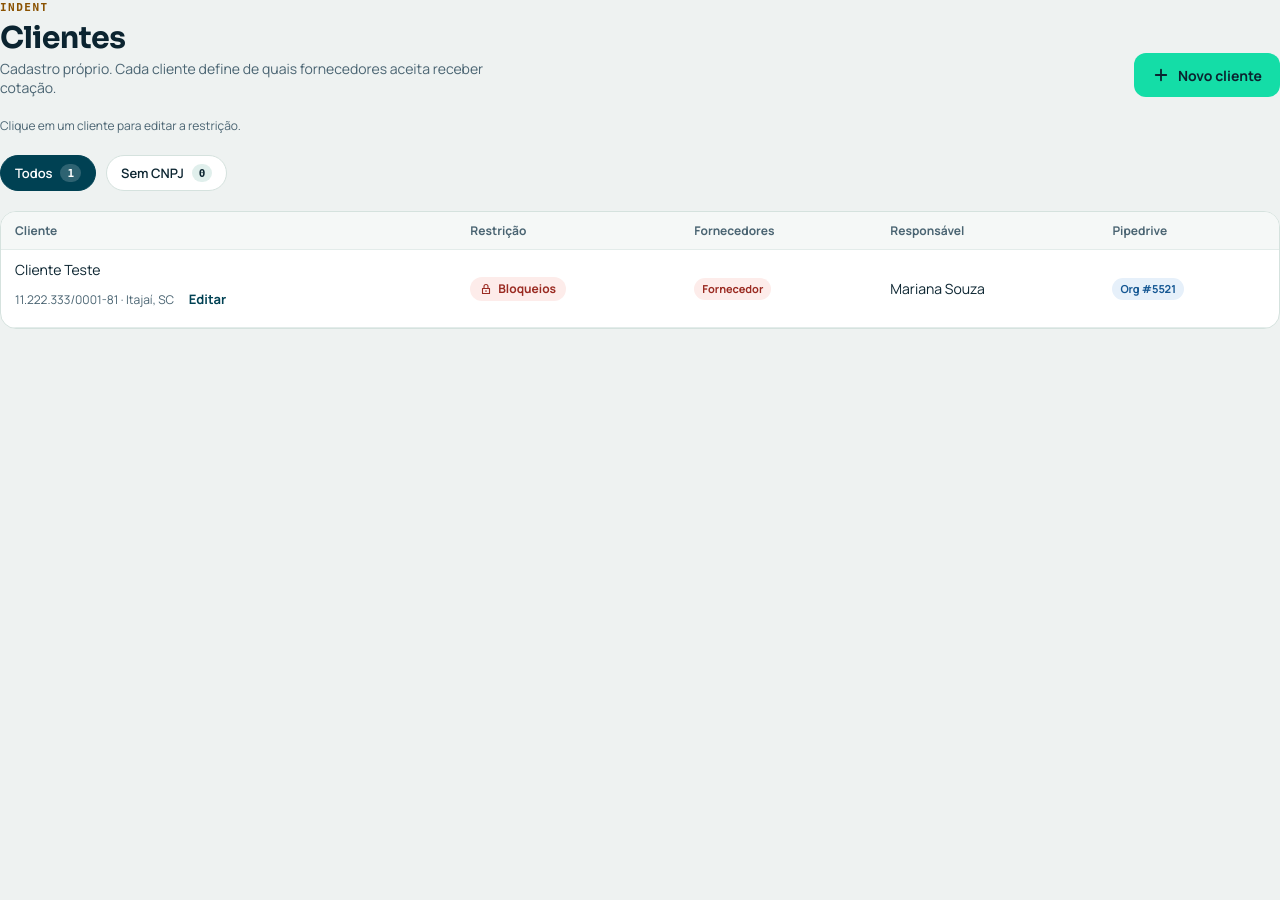
IndentClientes › fornecedor INATIVO ja marcado na regra continua na lista (marcado) mesmo fora dos options
Click the text "Cliente Teste" at (640, 288), box [1,250,1279,328]
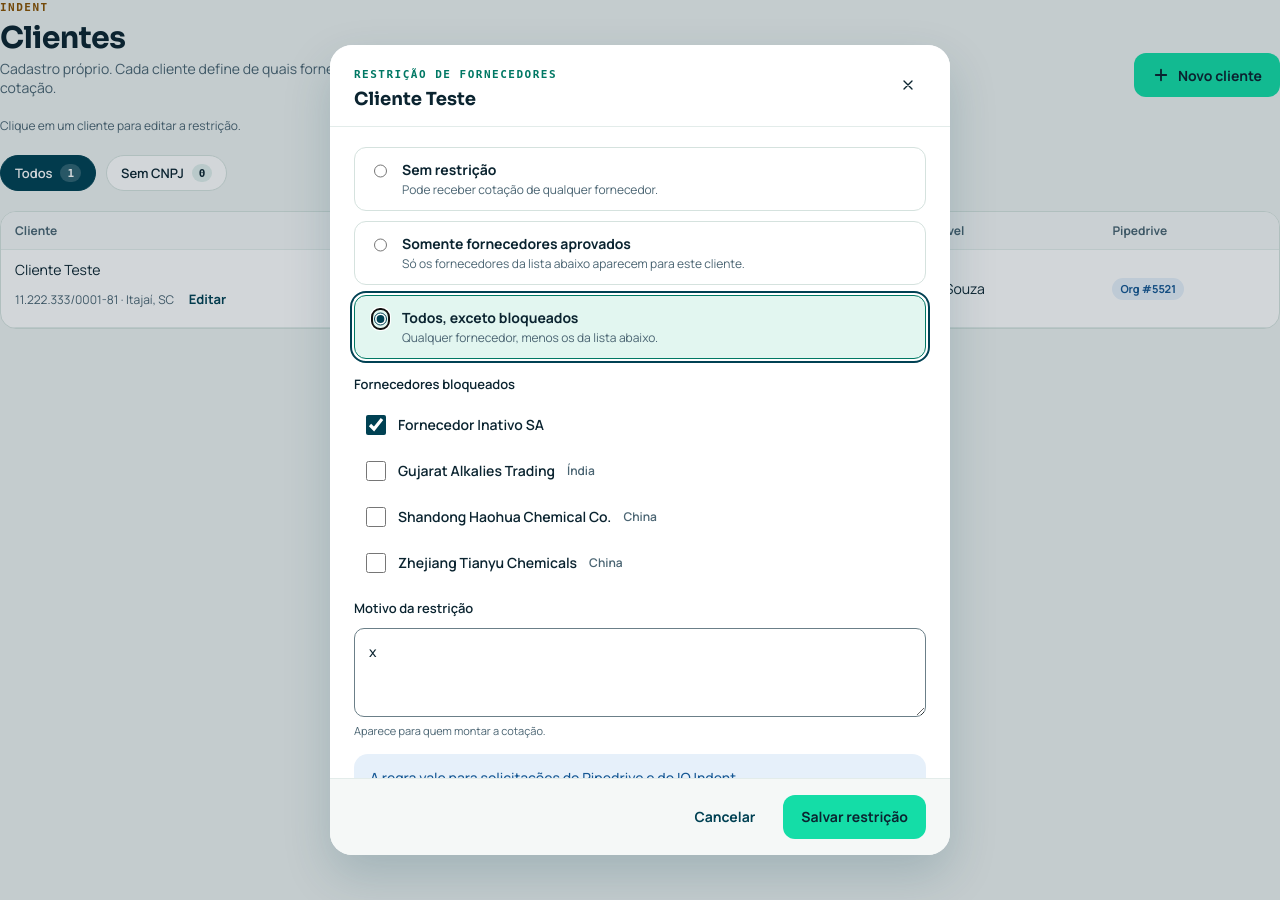
expect the checkbox labelled "Fornecedor Inativo SA" is checked: met, box [366,414,386,434]
